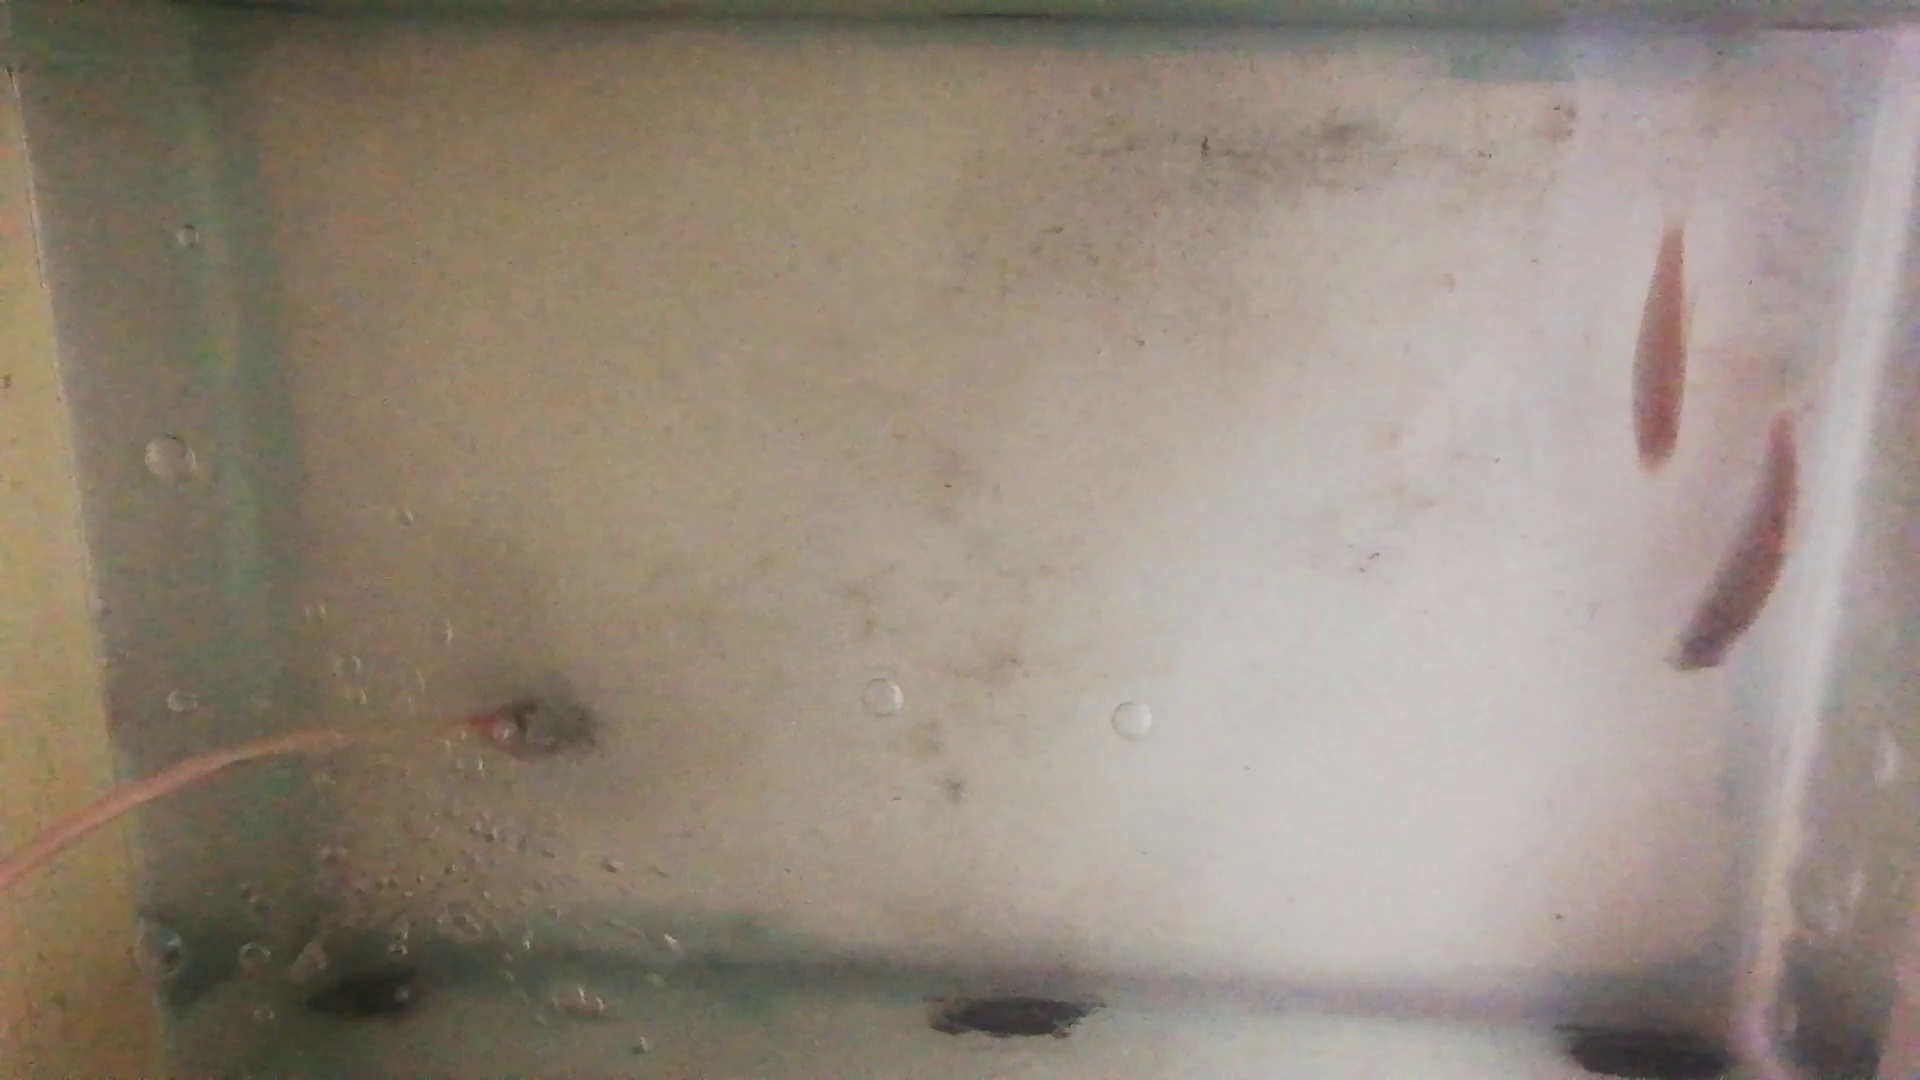fish: (1669, 415, 1796, 669), (1626, 222, 1693, 471)
